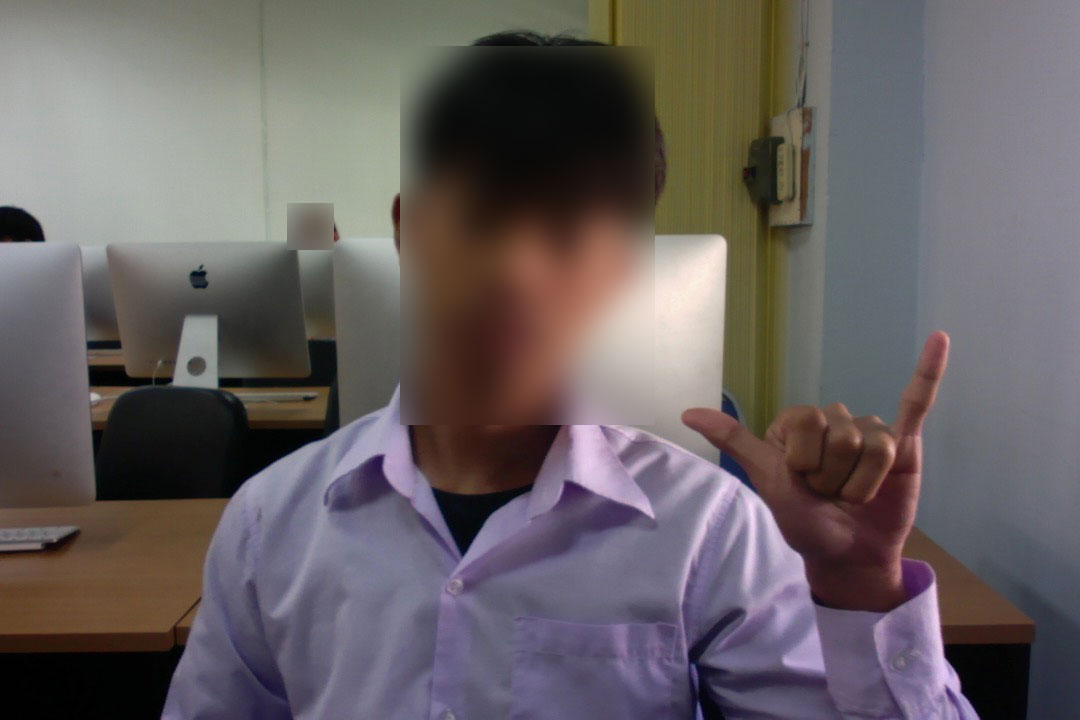yor: (674, 329, 960, 561)
